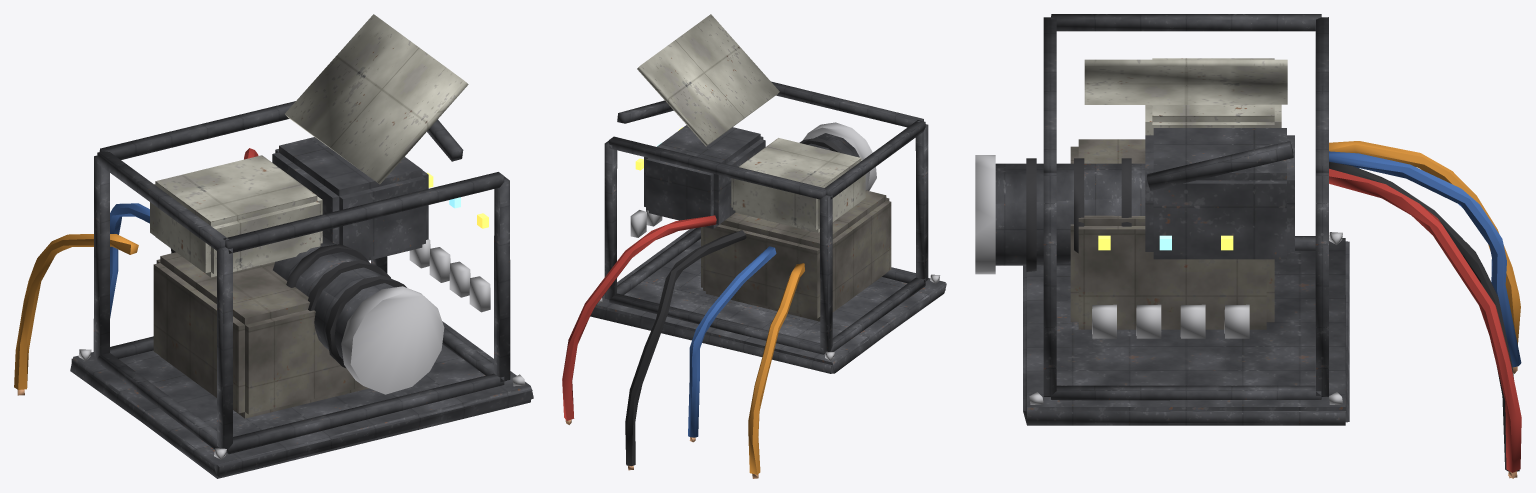
File: capsule_instrument_unit_lod2.glb
3 views of the same model, side by side, from view 1: azimuth 30°, elevation 25°; view 2: azimuth 150°, elevation 25°; view 3: azimuth 270°, elevation 25° (orthographic). The views are drawn at different scales.
Visible parts, largest first — view 1: capsule_instrument_unit; view 2: capsule_instrument_unit; view 3: capsule_instrument_unit.
Boxes of the visible parts, <box> form: capsule_instrument_unit: <box>14,14,533,478</box>; capsule_instrument_unit: <box>562,14,946,478</box>; capsule_instrument_unit: <box>975,14,1521,478</box>.
Size of the model in its own units: 0.6 by 0.7564 by 0.8029.
13 materials, 3 textured.
